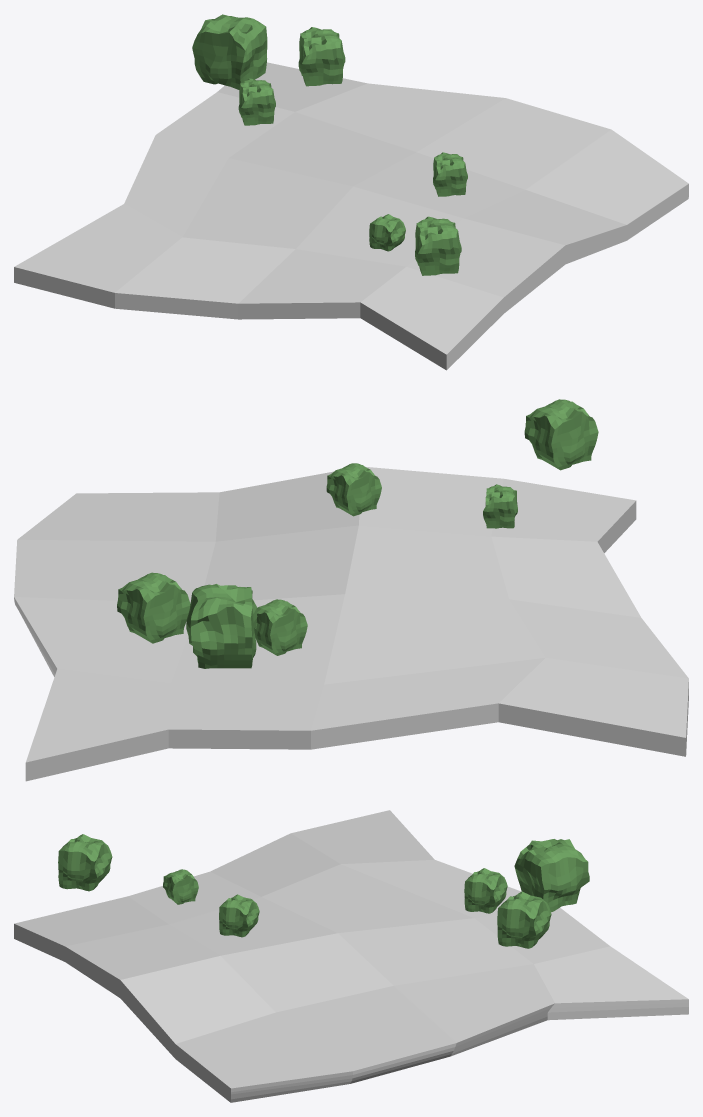
File: island7.glb
3 views of the same model, one above another, from view 1: azimuth 30°, elevation 25°; view 2: azimuth 150°, elevation 25°; view 3: azimuth 270°, elevation 25° (orthographic). The views are drawn at different scales.
Parts seen in each view (by area): view 1: Hill.006, Tree.060, Tree.063, Tree.062, Tree.061, Tree.065, Tree.064; view 2: Hill.006, Tree.060, Tree.063, Tree.062, Tree.061, Tree.065, Tree.064; view 3: Hill.006, Tree.060, Tree.062, Tree.063, Tree.061, Tree.065, Tree.064.
Part boxes in pixels (<box>): Hill.006: <box>14,62,688,370</box>; Tree.060: <box>192,14,267,89</box>; Tree.063: <box>415,216,461,275</box>; Tree.062: <box>298,27,345,86</box>; Tree.061: <box>238,78,275,125</box>; Tree.065: <box>433,152,467,196</box>; Tree.064: <box>369,214,405,251</box>; Hill.006: <box>14,467,688,781</box>; Tree.060: <box>186,584,257,668</box>; Tree.063: <box>524,399,598,470</box>; Tree.062: <box>117,572,190,643</box>; Tree.061: <box>254,599,307,655</box>; Tree.065: <box>326,463,381,516</box>; Tree.064: <box>483,484,517,528</box>; Hill.006: <box>14,810,688,1102</box>; Tree.060: <box>514,839,589,912</box>; Tree.062: <box>497,891,551,948</box>; Tree.063: <box>58,834,112,891</box>; Tree.061: <box>464,868,507,913</box>; Tree.065: <box>219,894,259,937</box>; Tree.064: <box>163,869,198,904</box>.
Size of the model in its own units: 2.31 by 0.4839 by 2.37.
